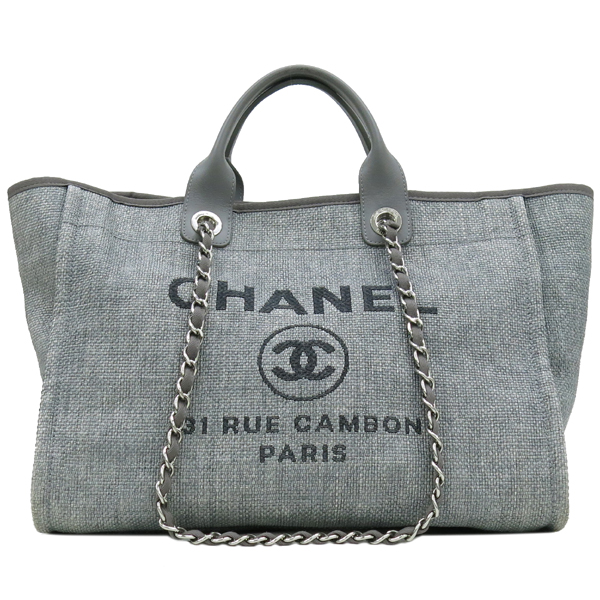channel: (9, 162, 600, 538), (138, 271, 459, 326), (262, 324, 365, 418)
